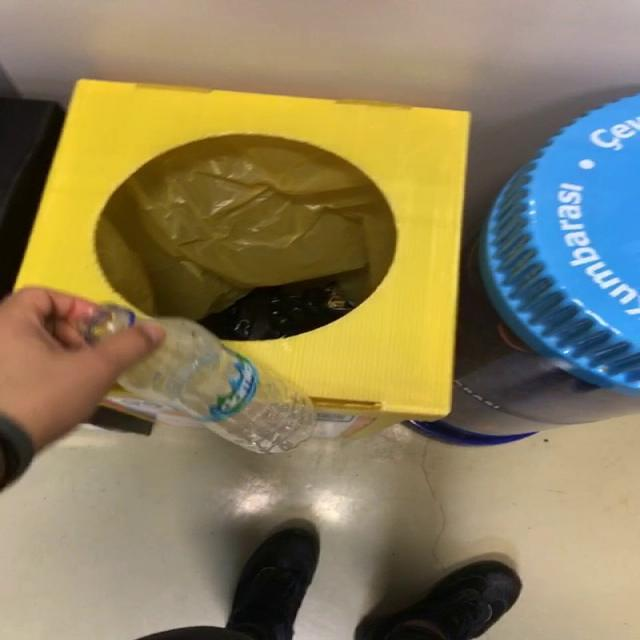plastic: (80, 306, 316, 454)
